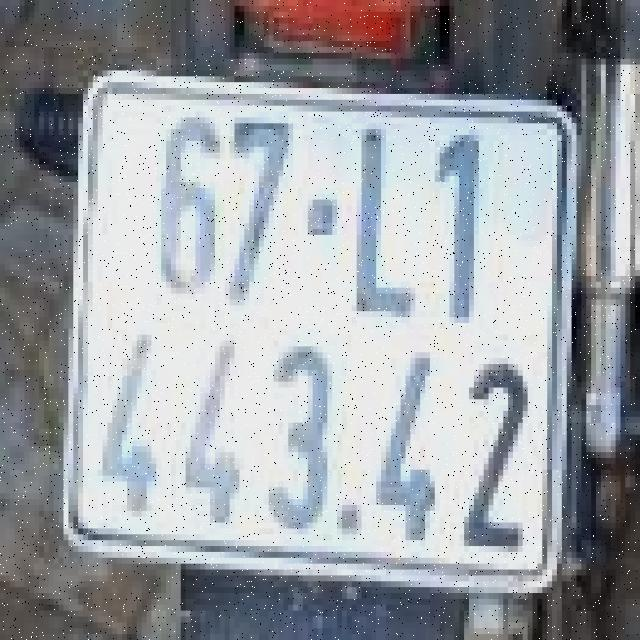1: (437, 126, 486, 332)
2: (464, 344, 538, 566)
3: (261, 341, 335, 540)
4: (371, 346, 445, 552), (176, 332, 249, 531), (98, 317, 166, 523)
6: (151, 112, 225, 300)
7: (230, 112, 293, 311)
L: (344, 120, 418, 326)
